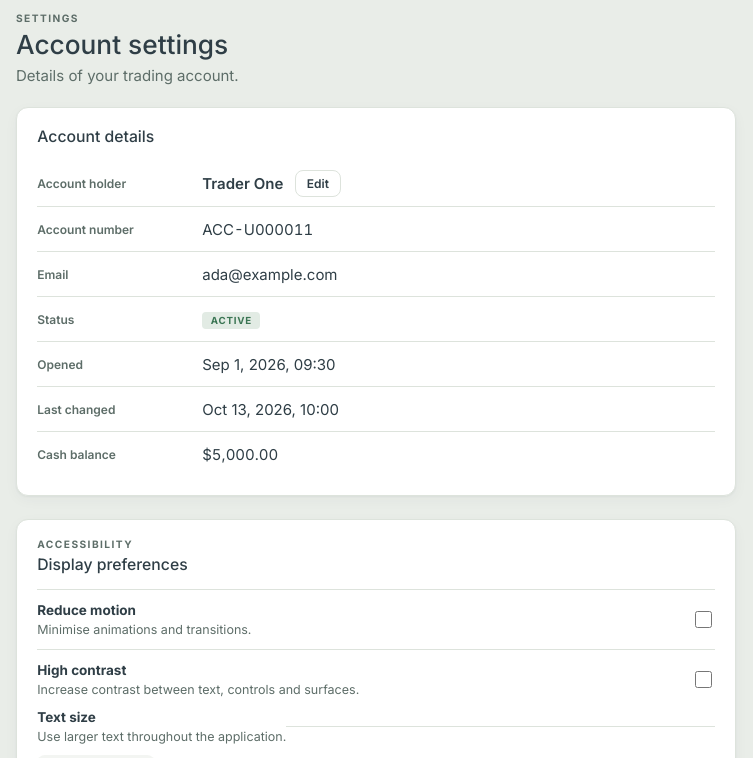
Test: SettingsComponent › renames the account holder and shows the new name
This screenshot has width=753, height=758.
Click the button with class "edit-name".
click(318, 184)  # box [294,170,341,197]
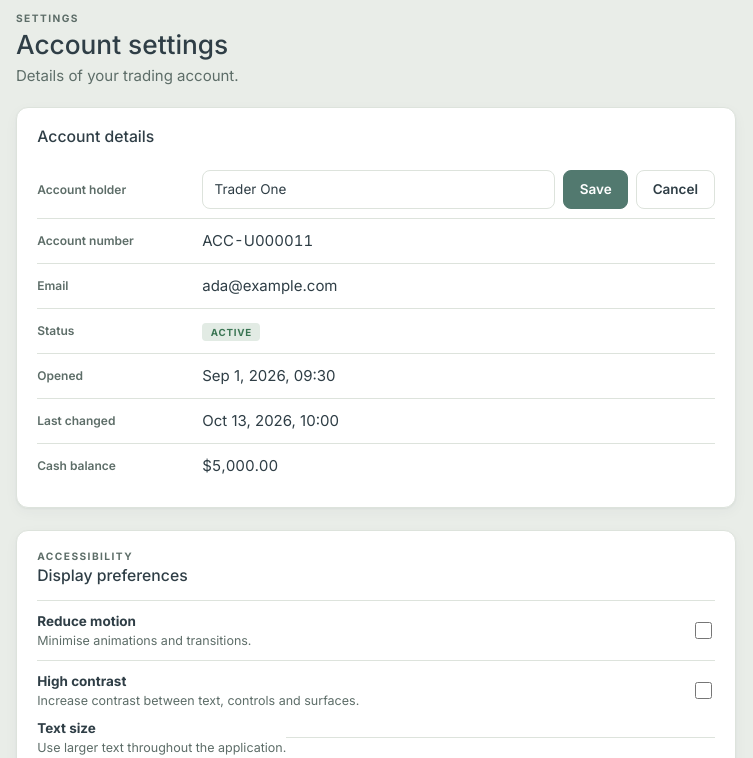
Replace the text in the field with id "holder-name" with "  Ada Lovelace " at (379, 189), box [202,170,556,209]
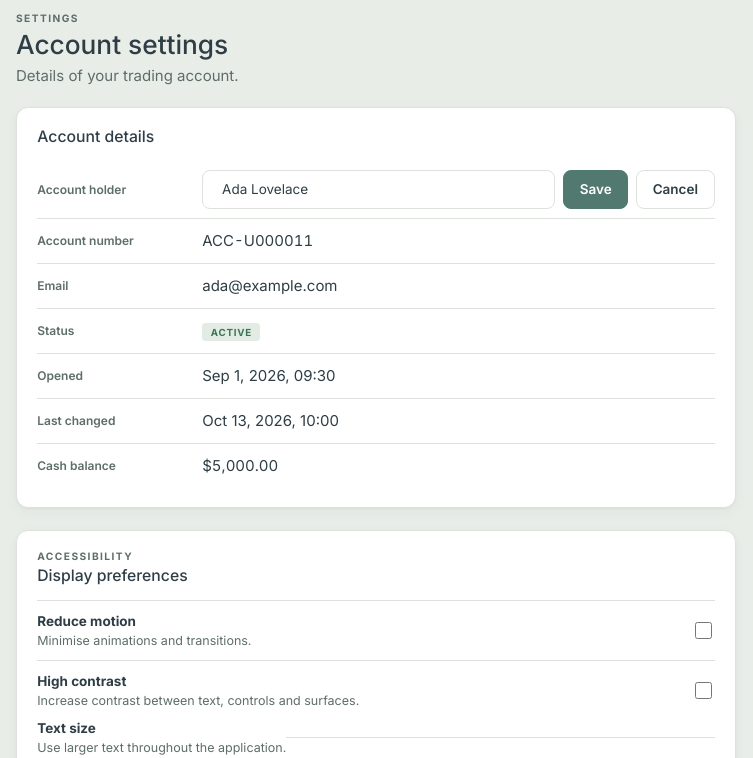
Submit the form with class "name-form", box [202,170,715,209]
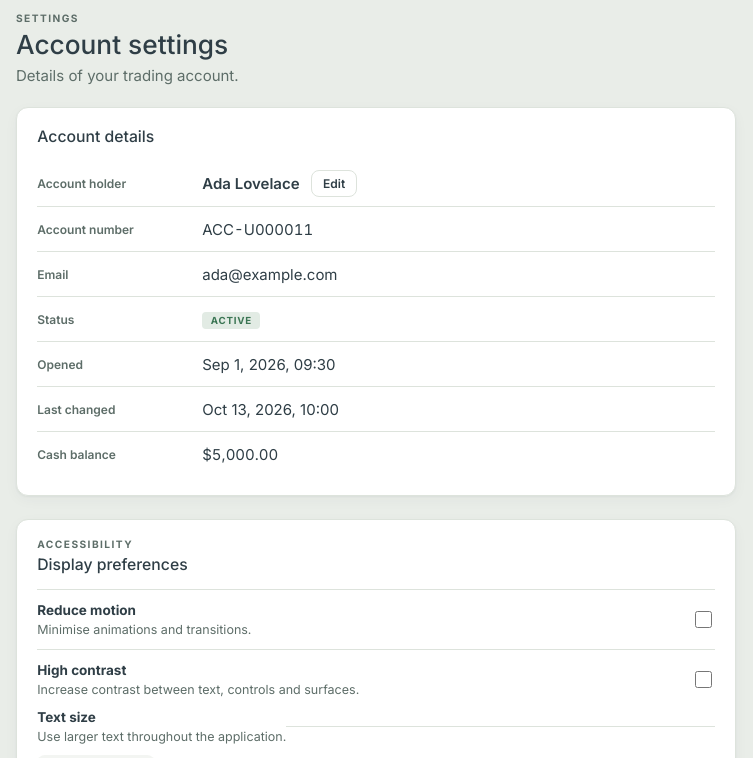
Result: the text with class "holder-name" reads "Ada Lovelace" at [202,174,300,193]
